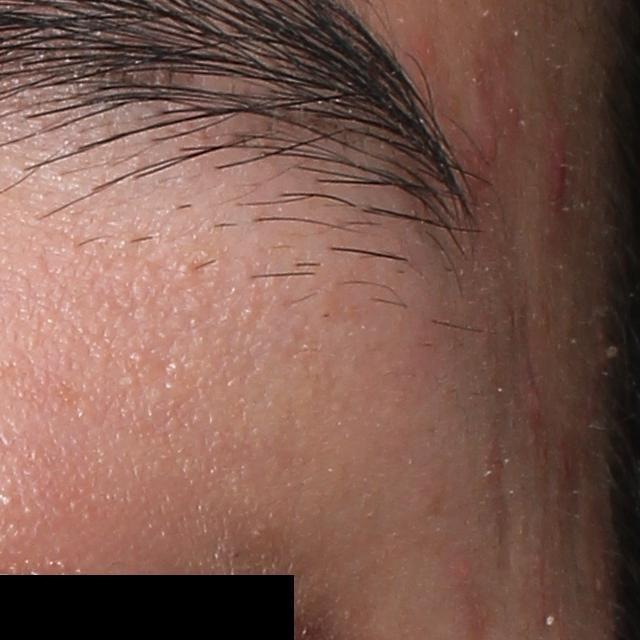atrophic_scar: (492, 423, 526, 583)
papule: (536, 115, 578, 222)
